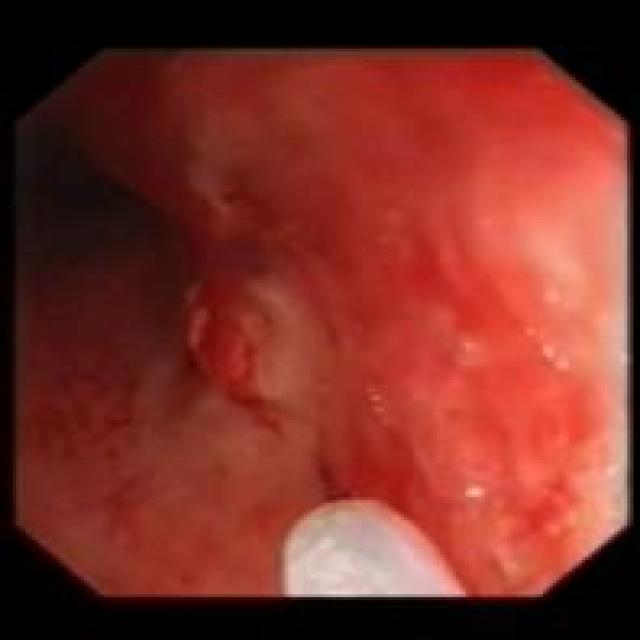blood: (171, 191, 281, 417)
contrast: (17, 51, 221, 417)
instrument: (275, 442, 468, 592)
saturation: (468, 136, 627, 598)
